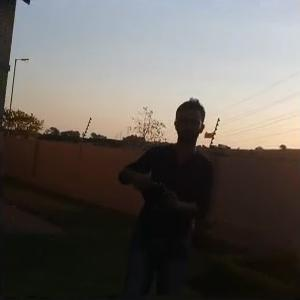follow: (116, 91, 225, 298)
